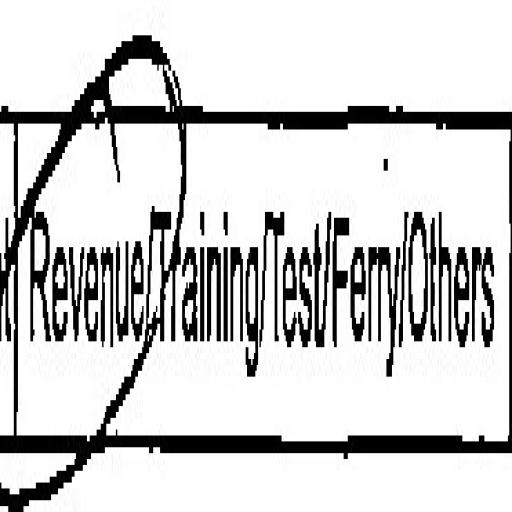check: (0, 0, 155, 512)
